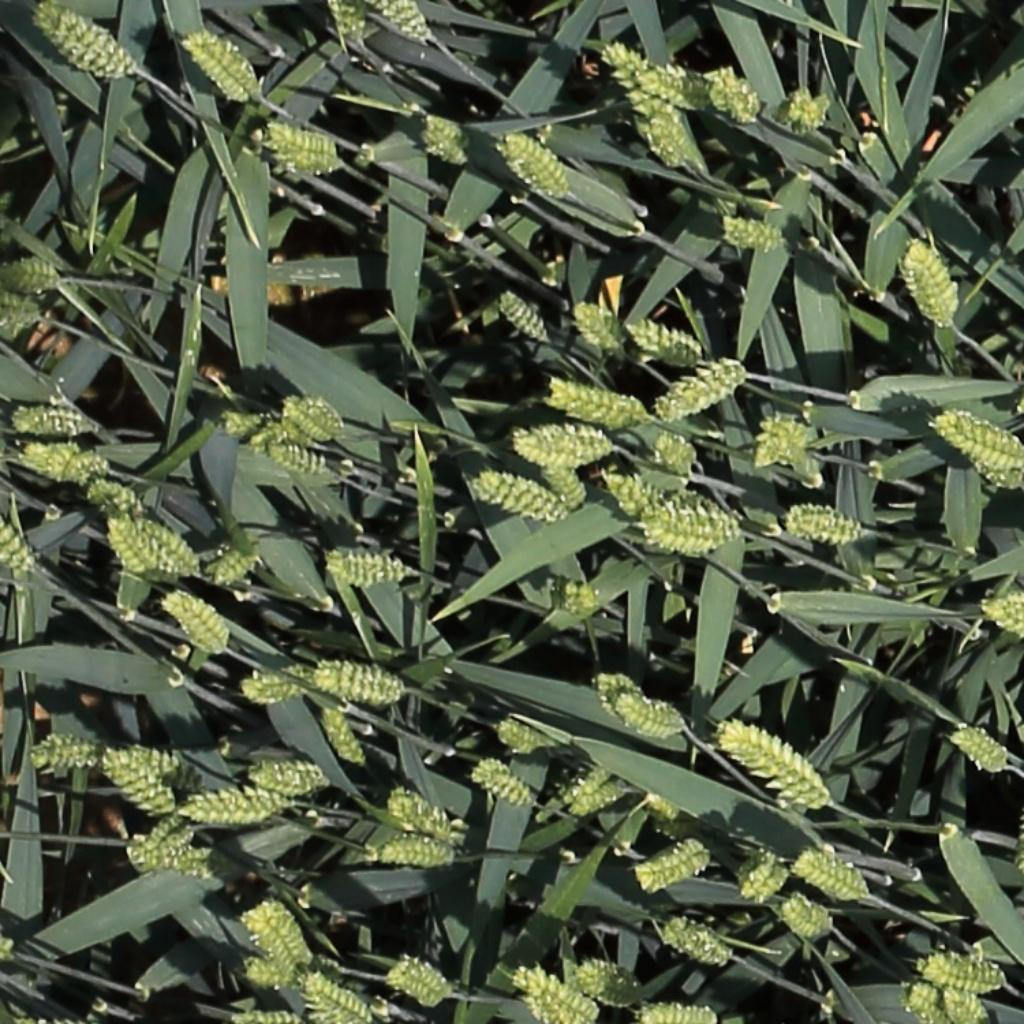0-0: (602, 38, 702, 168), (711, 718, 834, 812), (35, 2, 133, 79), (922, 404, 1024, 476), (237, 895, 314, 984), (655, 354, 754, 419), (118, 835, 255, 881), (542, 372, 655, 427), (639, 503, 746, 558), (466, 471, 577, 524), (250, 117, 345, 177), (90, 755, 180, 817), (180, 31, 256, 103), (504, 963, 600, 1020), (901, 234, 957, 329), (508, 422, 622, 468), (498, 128, 569, 197), (157, 589, 232, 653), (12, 439, 115, 485), (175, 788, 294, 827), (776, 501, 878, 546), (631, 838, 712, 894), (793, 845, 872, 902), (566, 954, 649, 1007), (752, 410, 824, 471), (308, 659, 407, 703), (138, 517, 204, 583), (218, 405, 320, 447), (123, 743, 205, 795), (635, 62, 717, 113), (299, 972, 378, 1024), (601, 468, 673, 525), (656, 915, 734, 967), (232, 759, 332, 799), (241, 949, 335, 991), (315, 701, 368, 775), (383, 783, 456, 836), (916, 950, 1010, 991), (466, 757, 538, 810), (322, 548, 417, 588), (701, 63, 761, 126), (387, 953, 454, 1007), (366, 831, 461, 869), (237, 664, 325, 705), (944, 721, 1007, 778), (284, 393, 351, 446), (614, 692, 690, 736), (27, 731, 113, 769), (494, 288, 550, 344), (638, 117, 695, 172), (717, 210, 787, 254), (734, 850, 788, 907), (107, 513, 156, 575), (9, 402, 97, 436), (590, 667, 648, 718), (82, 479, 148, 523), (491, 717, 563, 756), (422, 114, 474, 167), (552, 570, 604, 623), (623, 319, 701, 354), (556, 765, 617, 809), (779, 896, 839, 940), (0, 254, 66, 294), (0, 509, 38, 577), (262, 438, 326, 478), (569, 301, 619, 352), (521, 990, 596, 1024), (651, 428, 698, 482), (787, 80, 830, 136), (143, 813, 200, 855), (566, 782, 629, 820), (979, 586, 1024, 639), (374, 0, 430, 42), (635, 996, 719, 1024), (543, 460, 589, 510), (902, 982, 949, 1024), (971, 457, 1024, 494), (209, 548, 262, 585), (323, 0, 365, 46), (0, 292, 46, 333), (943, 982, 986, 1024), (225, 1006, 301, 1024), (640, 791, 681, 822)
